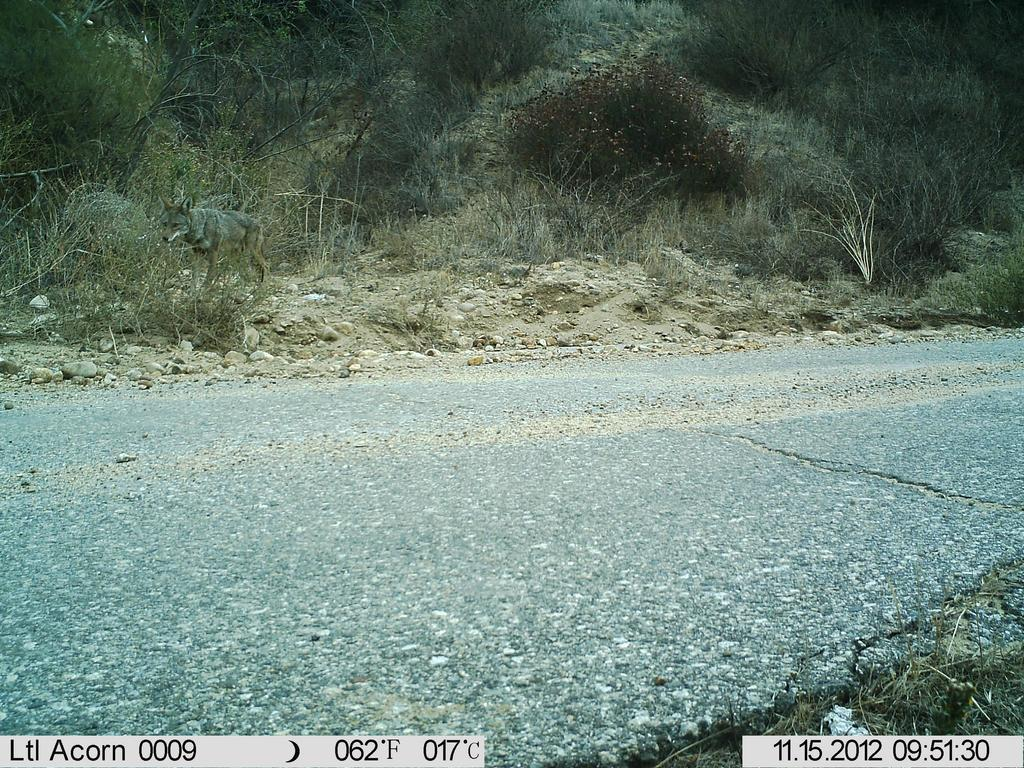coyote: (153, 189, 277, 297)
